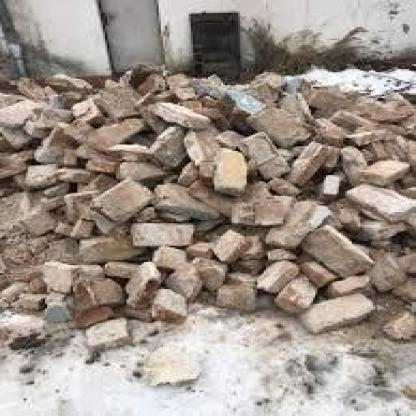brick: (0, 63, 414, 352), (140, 346, 204, 385)
